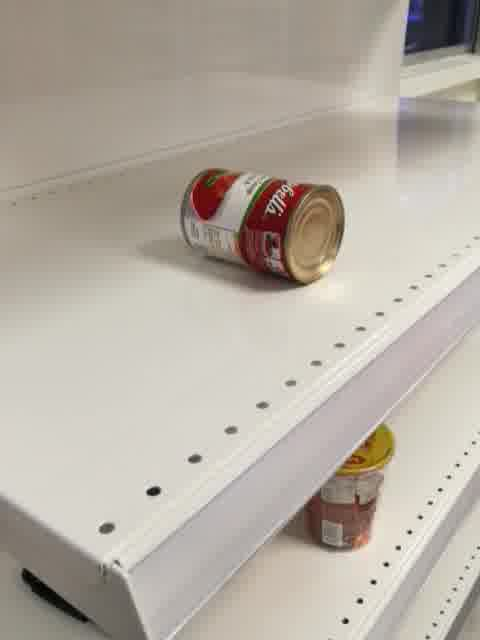tomatosoup: (177, 166, 345, 285)
